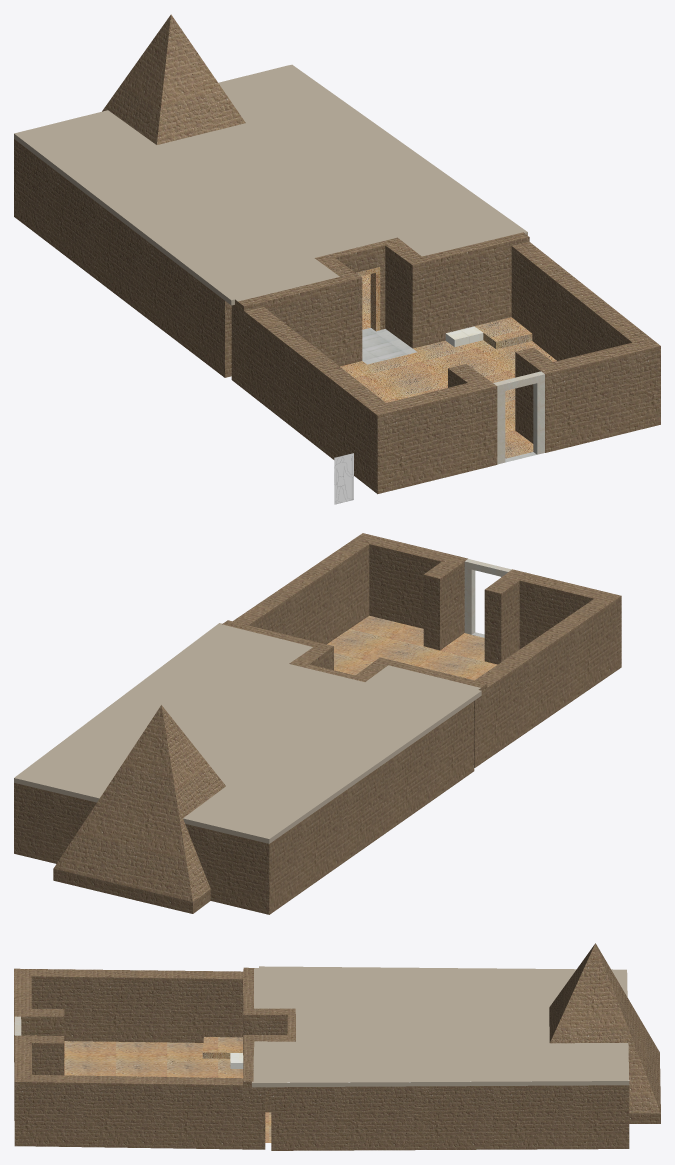
The model's file is Ramose.glb.
The picture shows the model from 3 angles, top to bottom: view 1: azimuth 30°, elevation 25°; view 2: azimuth 150°, elevation 25°; view 3: azimuth 270°, elevation 25°; orthographic projection. The views are drawn at different scales.
Parts seen in each view (by area): view 1: Mesh6 Model, Mesh8 Model, Mesh9 Model; view 2: Mesh6 Model, Mesh8 Model; view 3: Mesh6 Model, Mesh8 Model.
Boxes of the visible parts, bbox=[...] form: Mesh6 Model: bbox=[14, 64, 660, 494]; Mesh8 Model: bbox=[102, 14, 245, 144]; Mesh9 Model: bbox=[334, 453, 353, 504]; Mesh6 Model: bbox=[14, 533, 621, 914]; Mesh8 Model: bbox=[53, 705, 225, 913]; Mesh6 Model: bbox=[14, 966, 629, 1150]; Mesh8 Model: bbox=[549, 943, 660, 1123].
Size of the model in its own units: 12.1 by 6.25 by 24.45.
17 materials, 15 textured.
